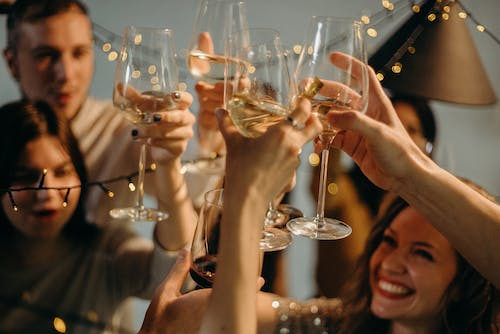alcohol: (285, 14, 370, 241), (223, 26, 294, 253), (103, 24, 181, 222), (178, 0, 251, 178), (189, 186, 264, 289)
